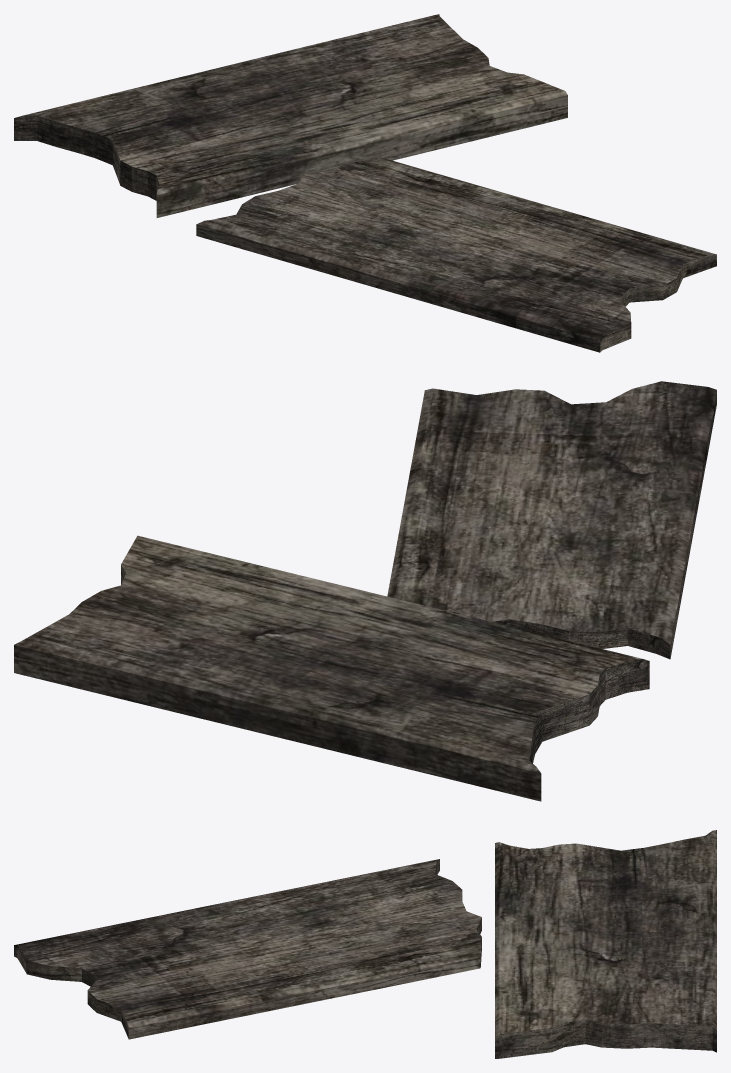
The model's file is TW2_9_ADDONS_12_6_3-transformed.glb.
The picture shows the model from 3 angles, top to bottom: view 1: azimuth 30°, elevation 25°; view 2: azimuth 150°, elevation 25°; view 3: azimuth 270°, elevation 25°; orthographic projection. The views are drawn at different scales.
Parts seen in each view (by area): view 1: default; view 2: default; view 3: default.
Boxes of the visible parts, box(x1,y1,x2,y2) form: default: box(14, 14, 716, 352); default: box(14, 381, 716, 801); default: box(14, 830, 716, 1058).
Bounding box in the file's own units: 1.49 × 0.0822 × 2.14.
1 material, 1 textured.
